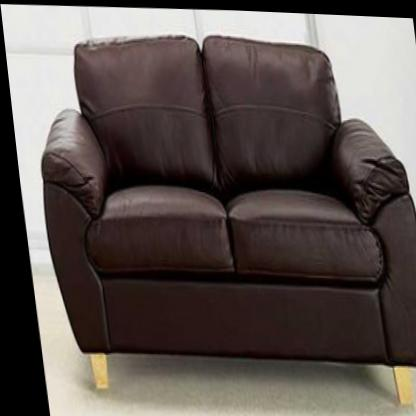Sofa: (20, 20, 416, 414)
